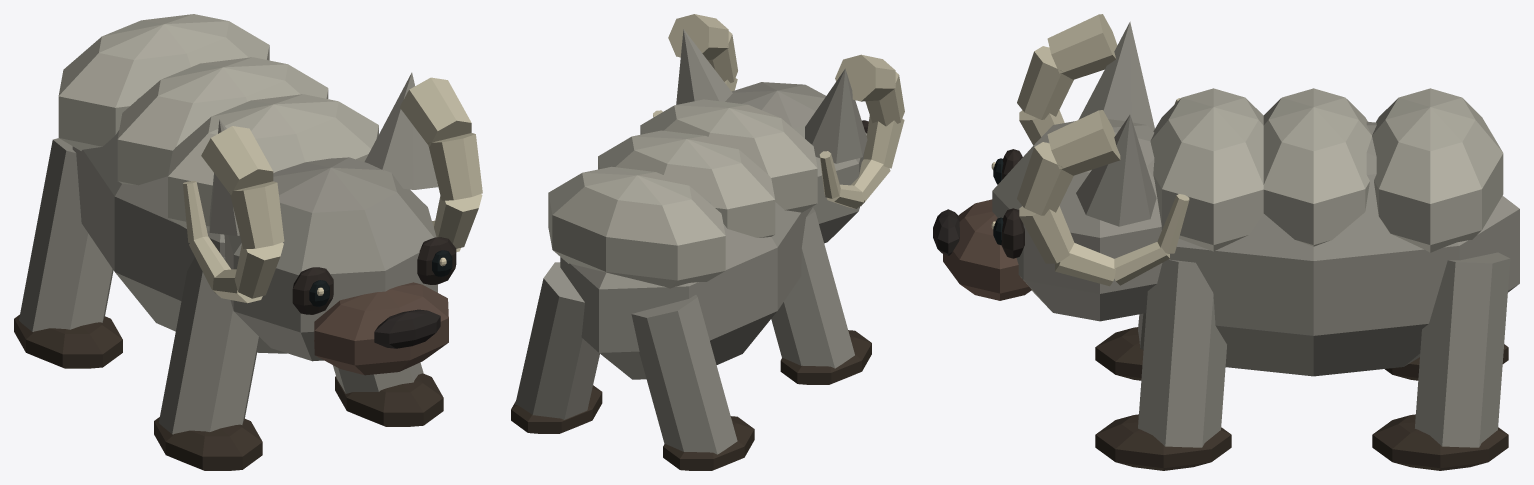
The model's file is fauna-frosthorn_ram.glb.
3 renders of one model, left to right at view 1: azimuth 30°, elevation 25°; view 2: azimuth 150°, elevation 25°; view 3: azimuth 270°, elevation 25°, orthographic. The views are drawn at different scales.
Parts seen in each view (by area): view 1: Fauna_frosthorn_ram; view 2: Fauna_frosthorn_ram; view 3: Fauna_frosthorn_ram.
Part boxes in pixels (left/top/right/bottom): Fauna_frosthorn_ram: left=14, top=14, right=482, bottom=470; Fauna_frosthorn_ram: left=511, top=14, right=904, bottom=470; Fauna_frosthorn_ram: left=933, top=14, right=1519, bottom=470.
Bounding box in the file's own units: 0.9118 × 1.18 × 1.76.
